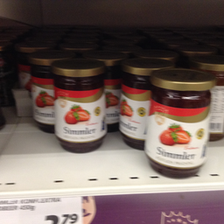jam: (144, 67, 217, 179), (49, 58, 107, 153), (118, 59, 153, 149)
